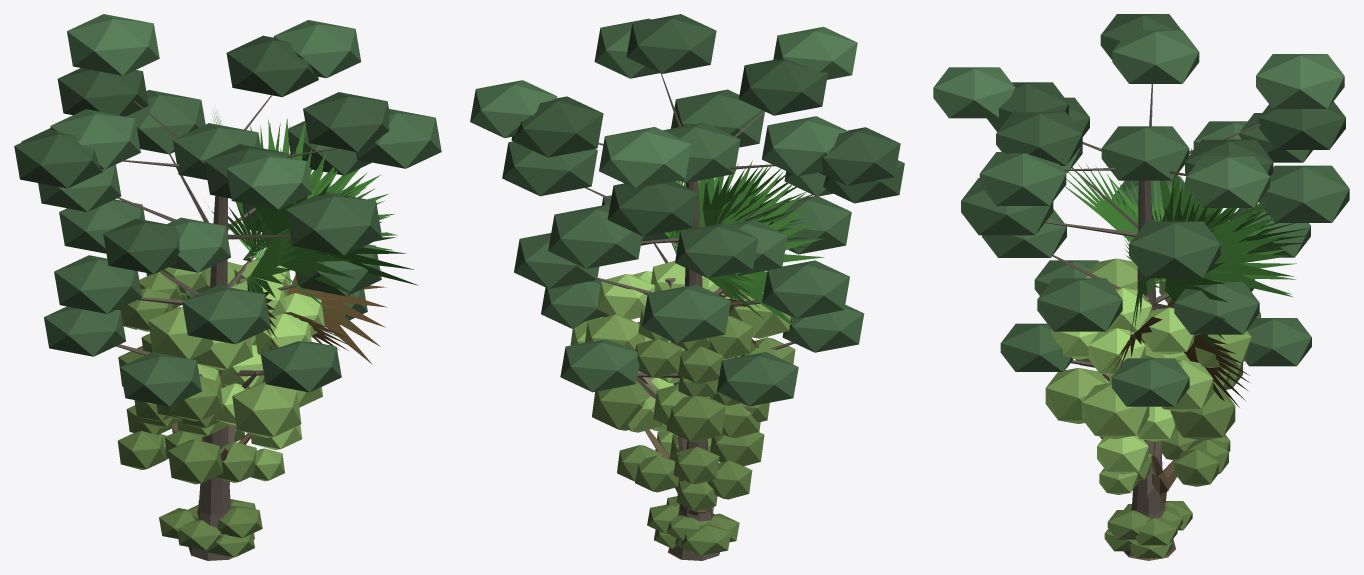
File: trees.glb
3 renders of one model, left to right at view 1: azimuth 30°, elevation 25°; view 2: azimuth 150°, elevation 25°; view 3: azimuth 270°, elevation 25°, orthographic.
Parts seen in each view (by area): view 1: tree-araucaria, tree-broad, buriti, cerrado-tree, bush; view 2: tree-araucaria, tree-broad, cerrado-tree, buriti, bush; view 3: tree-araucaria, tree-broad, buriti, cerrado-tree, bush.
Part boxes in pixels (bbox=[...]): tree-araucaria: bbox=[14, 14, 441, 560]; tree-broad: bbox=[117, 258, 324, 437]; buriti: bbox=[205, 112, 418, 484]; cerrado-tree: bbox=[117, 345, 302, 559]; bush: bbox=[159, 499, 262, 557]; tree-araucaria: bbox=[470, 14, 904, 560]; tree-broad: bbox=[570, 261, 795, 450]; cerrado-tree: bbox=[617, 359, 764, 559]; buriti: bbox=[664, 160, 824, 451]; bush: bbox=[647, 496, 739, 555]; tree-araucaria: bbox=[933, 14, 1349, 558]; tree-broad: bbox=[1045, 258, 1260, 461]; buriti: bbox=[1063, 148, 1308, 499]; cerrado-tree: bbox=[1097, 369, 1230, 560]; bush: bbox=[1104, 501, 1192, 558].
Size of the model in its own units: 11.51 by 14 by 10.99.
